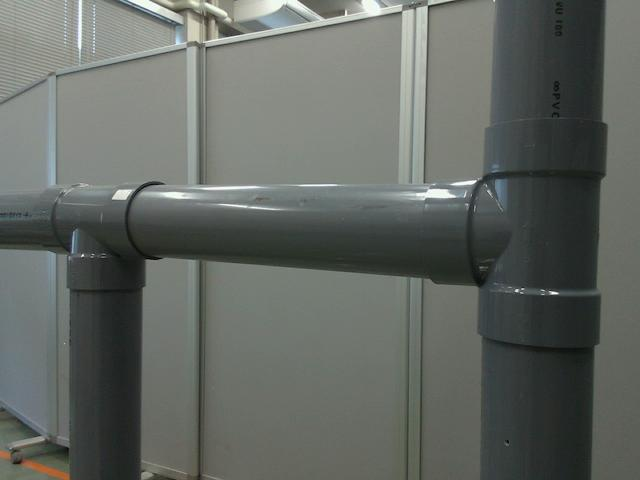junction: (423, 117, 604, 356), (33, 183, 168, 291)
